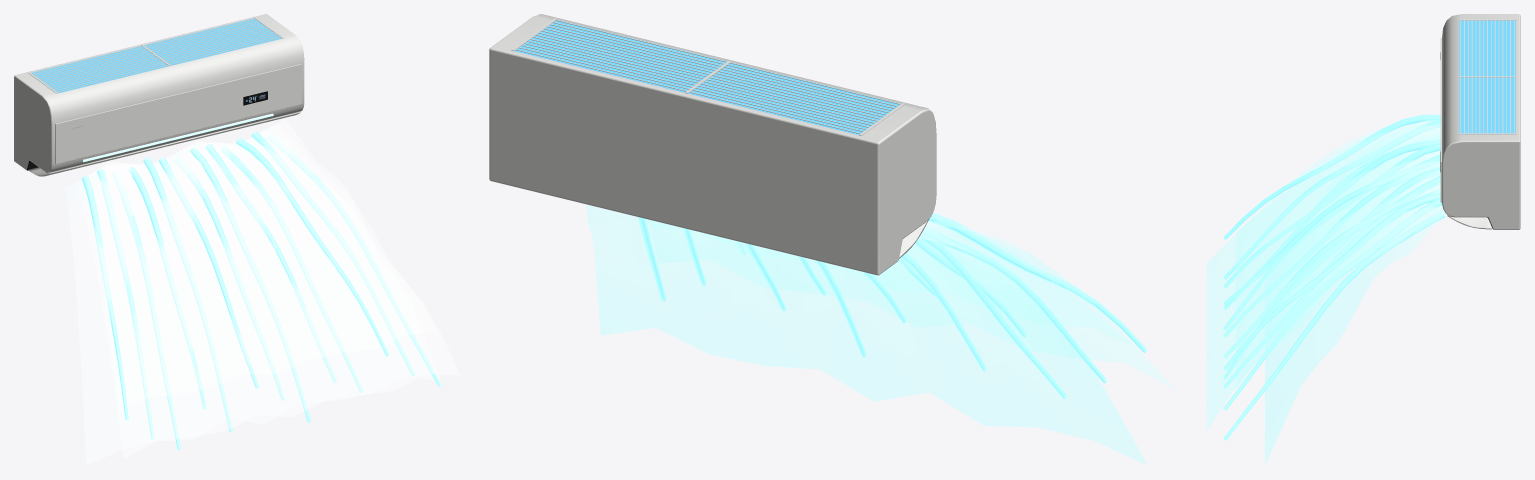
Rendered from wall_ac.glb.
The picture shows the model from 3 angles, left to right: view 1: azimuth 30°, elevation 25°; view 2: azimuth 150°, elevation 25°; view 3: azimuth 270°, elevation 25°; orthographic projection. The views are drawn at different scales.
Parts seen in each view (by area): view 1: wall_ac_airflow, wall_ac_airflow_streaks, wall_ac_body, wall_ac_front_panel, wall_ac_top_glow, wall_ac_grille, wall_ac_louver_blade, wall_ac_led; view 2: wall_ac_airflow, wall_ac_body, wall_ac_top_glow, wall_ac_airflow_streaks, wall_ac_grille; view 3: wall_ac_airflow, wall_ac_airflow_streaks, wall_ac_body, wall_ac_top_glow, wall_ac_grille, wall_ac_louver_blade, wall_ac_front_panel.
Boxes of the visible parts, <box> form: wall_ac_airflow: <box>65,119,460,465</box>; wall_ac_airflow_streaks: <box>81,131,440,449</box>; wall_ac_body: <box>14,14,304,172</box>; wall_ac_front_panel: <box>55,64,301,163</box>; wall_ac_top_glow: <box>31,18,281,93</box>; wall_ac_grille: <box>28,17,283,93</box>; wall_ac_louver_blade: <box>28,111,300,176</box>; wall_ac_led: <box>83,113,273,162</box>; wall_ac_airflow: <box>586,204,1176,465</box>; wall_ac_body: <box>489,14,936,275</box>; wall_ac_top_glow: <box>514,20,900,134</box>; wall_ac_airflow_streaks: <box>638,212,1146,398</box>; wall_ac_grille: <box>511,18,904,135</box>; wall_ac_airflow: <box>1206,120,1444,464</box>; wall_ac_airflow_streaks: <box>1223,114,1445,440</box>; wall_ac_body: <box>1442,14,1520,229</box>; wall_ac_top_glow: <box>1459,20,1515,133</box>; wall_ac_grille: <box>1458,19,1516,134</box>; wall_ac_louver_blade: <box>1447,215,1492,229</box>; wall_ac_front_panel: <box>1440,38,1441,202</box>.
Bounding box in the file's own units: 1.16 × 0.9054 × 0.86.
10 materials, 1 textured.
